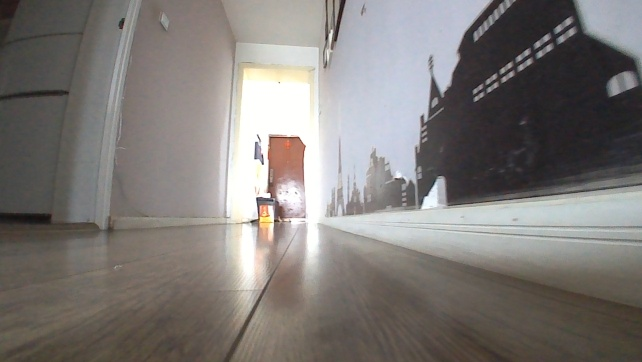door_anno: (266, 133, 306, 225)
refrigerator: (0, 0, 93, 221)
